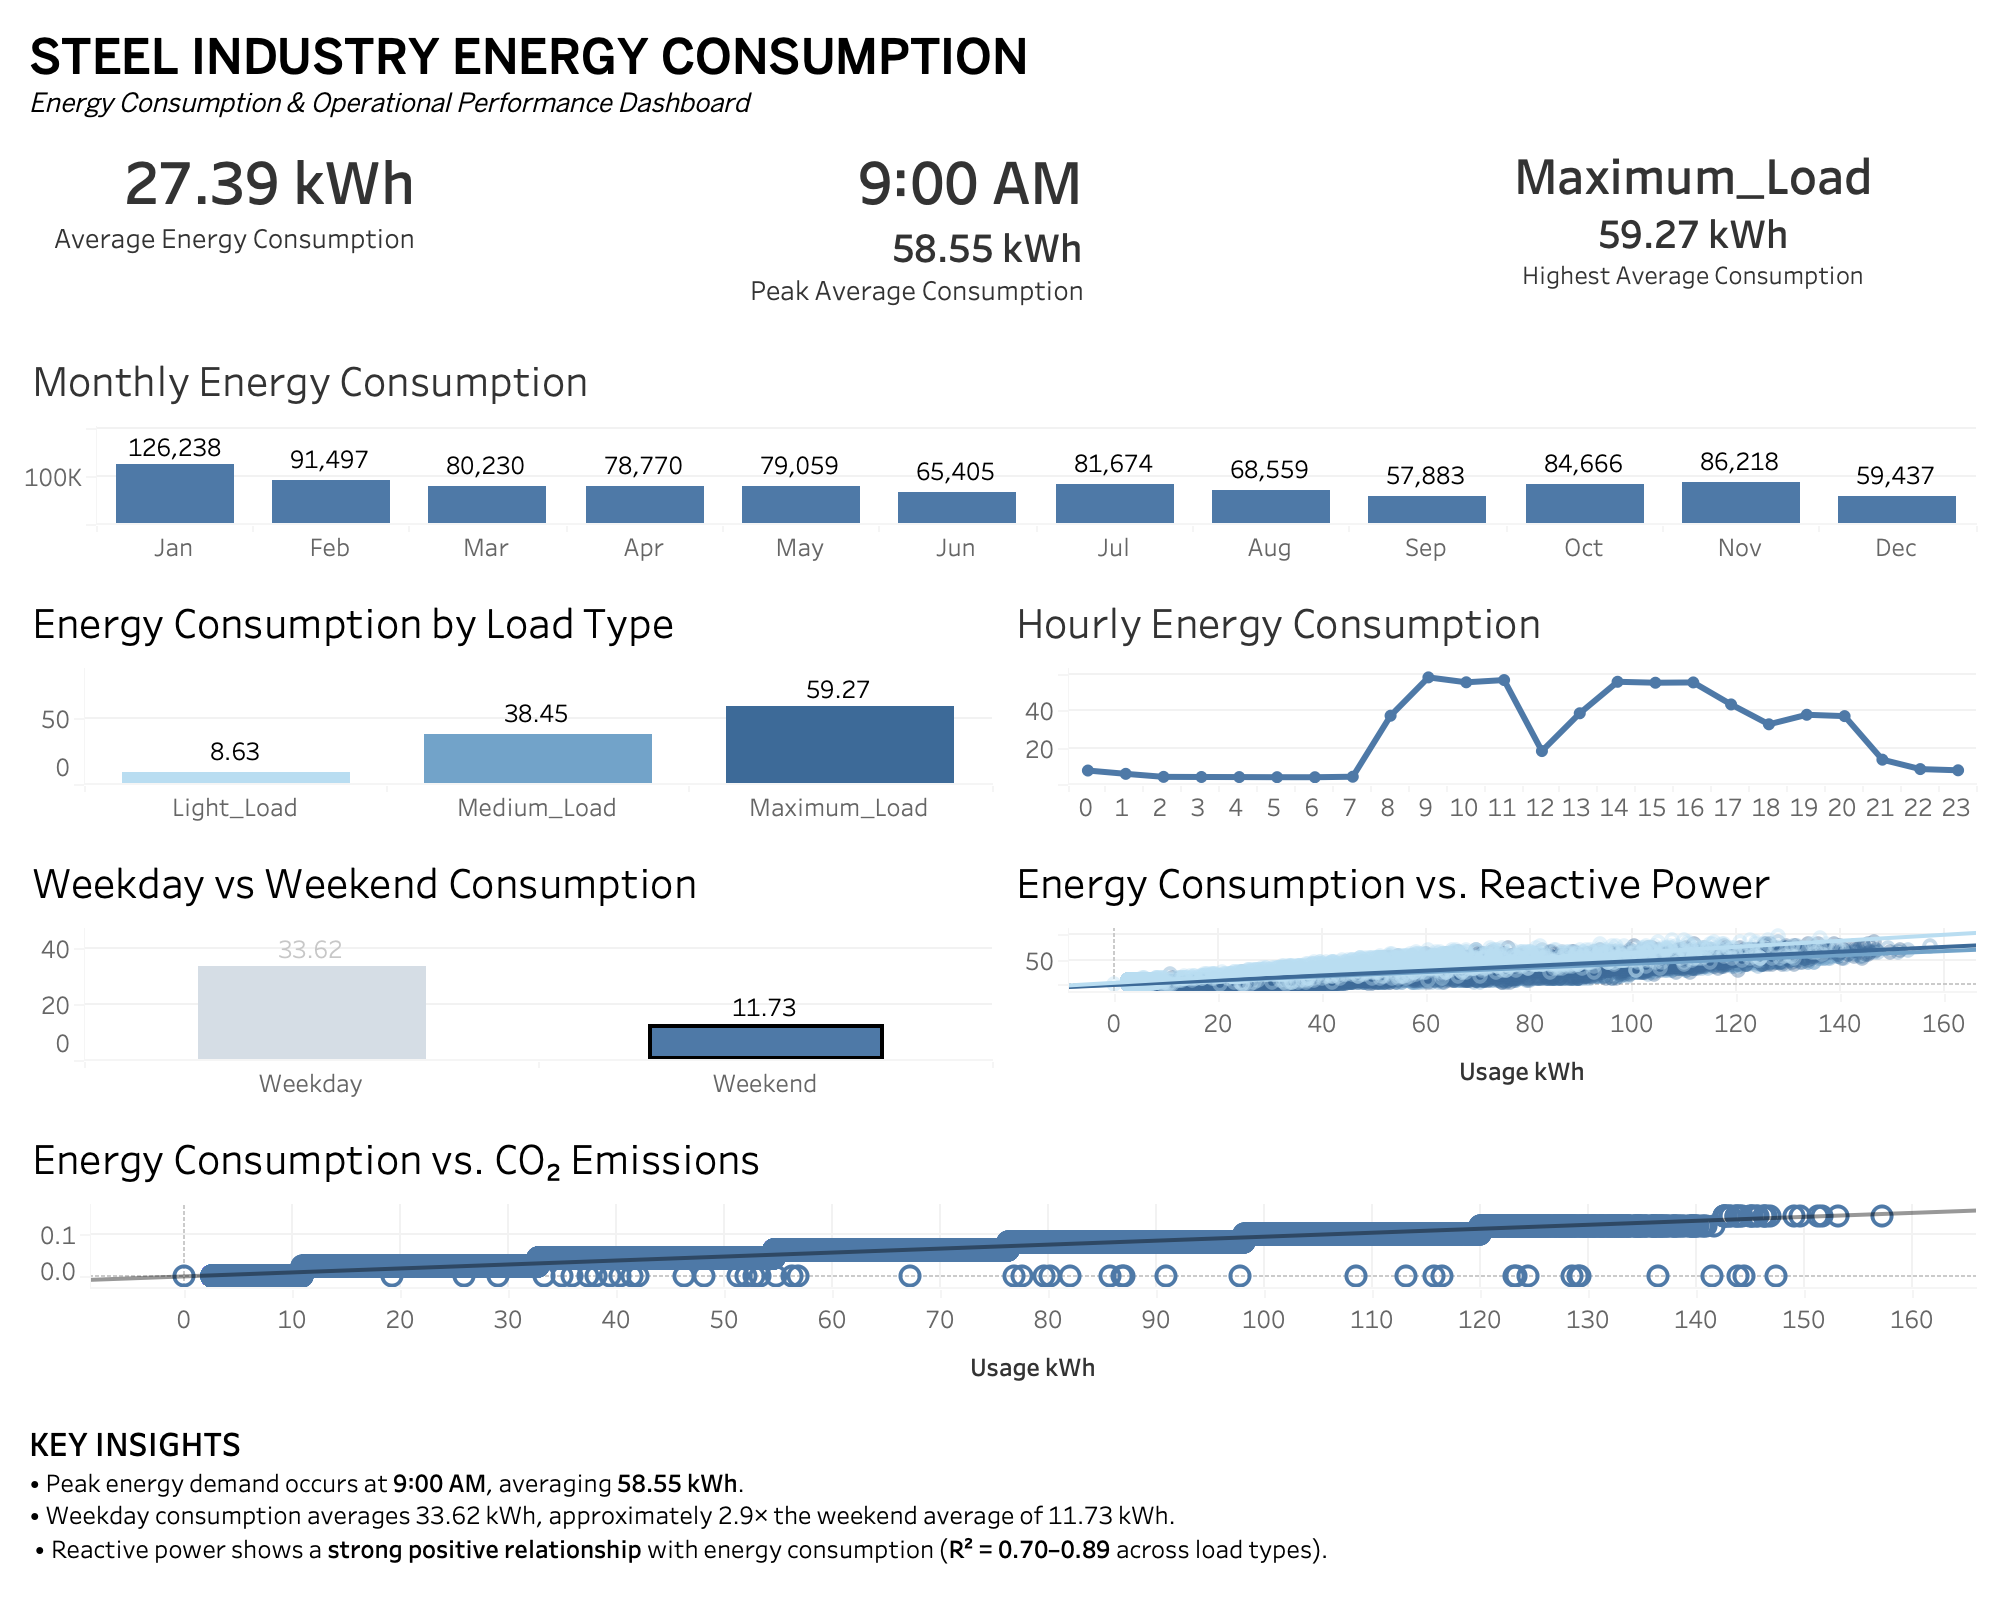

This screenshot's page, from the dashboard's own definition file:
{"tool":"tableau","page":{"name":"Dashboard 1","canvas":[1000,800],"ordinal":0},"visuals":[{"type":"text","box":[8,8,984,58.9]},{"type":"worksheet","title":"KPI - Average Energy Consumption","mark":"Automatic","box":[8,66.9,492,66]},{"type":"worksheet","title":"KPI - Peak Average Hour","mark":"Text","box":[500,66.9,246,99.3]},{"type":"worksheet","title":"KPI - Highest Consumption Load","mark":"Text","box":[746,66.9,246,99.3]},{"type":"worksheet","title":"Monthly Energy Consumption","mark":"Bar","rows":["Usage_kWh"],"cols":["Calculation_3061703235366914"],"box":[8,166.2,984,121]},{"type":"worksheet","title":"Average Energy Consumption by Load Type","mark":"Automatic","rows":["Usage_kWh"],"cols":["Load_Type"],"box":[8,287.2,492,129.6]},{"type":"worksheet","title":"Hourly Energy Consumption","mark":"Line","rows":["Usage_kWh"],"cols":["hour"],"box":[500,287.2,492,129.6]},{"type":"worksheet","title":"Average Energy Consumption: Weekday vs Weekend","mark":"Bar","rows":["Usage_kWh"],"cols":["WeekStatus"],"box":[8,416.8,492,138.2]},{"type":"worksheet","title":"Energy Consumption vs Reactive Power","mark":"Automatic","rows":["Lagging_Current_Reactive_Power_kVarh"],"cols":["Usage_kWh"],"box":[500,416.8,492,138.2]},{"type":"worksheet","title":"Energy Consumption vs CO₂ Emissions","mark":"Automatic","rows":["CO2_tCO2_"],"cols":["Usage_kWh"],"box":[8,555,984,148]},{"type":"text","box":[8,703,984,89]}]}

Visuals, with their boxes in screenshot pixels (x1, y1, x2, y2), scaled from the page's 1000x800 canvas onto the 2000x1600 screenshot:
text: bbox=[16, 16, 1984, 134]
"KPI - Average Energy Consumption" worksheet: bbox=[16, 134, 1000, 266]
"KPI - Peak Average Hour" worksheet (Text marks): bbox=[1000, 134, 1492, 332]
"KPI - Highest Consumption Load" worksheet (Text marks): bbox=[1492, 134, 1984, 332]
"Monthly Energy Consumption" worksheet (Bar marks): bbox=[16, 332, 1984, 574]
"Average Energy Consumption by Load Type" worksheet: bbox=[16, 574, 1000, 834]
"Hourly Energy Consumption" worksheet (Line marks): bbox=[1000, 574, 1984, 834]
"Average Energy Consumption: Weekday vs Weekend" worksheet (Bar marks): bbox=[16, 834, 1000, 1110]
"Energy Consumption vs Reactive Power" worksheet: bbox=[1000, 834, 1984, 1110]
"Energy Consumption vs CO₂ Emissions" worksheet: bbox=[16, 1110, 1984, 1406]
text: bbox=[16, 1406, 1984, 1584]
